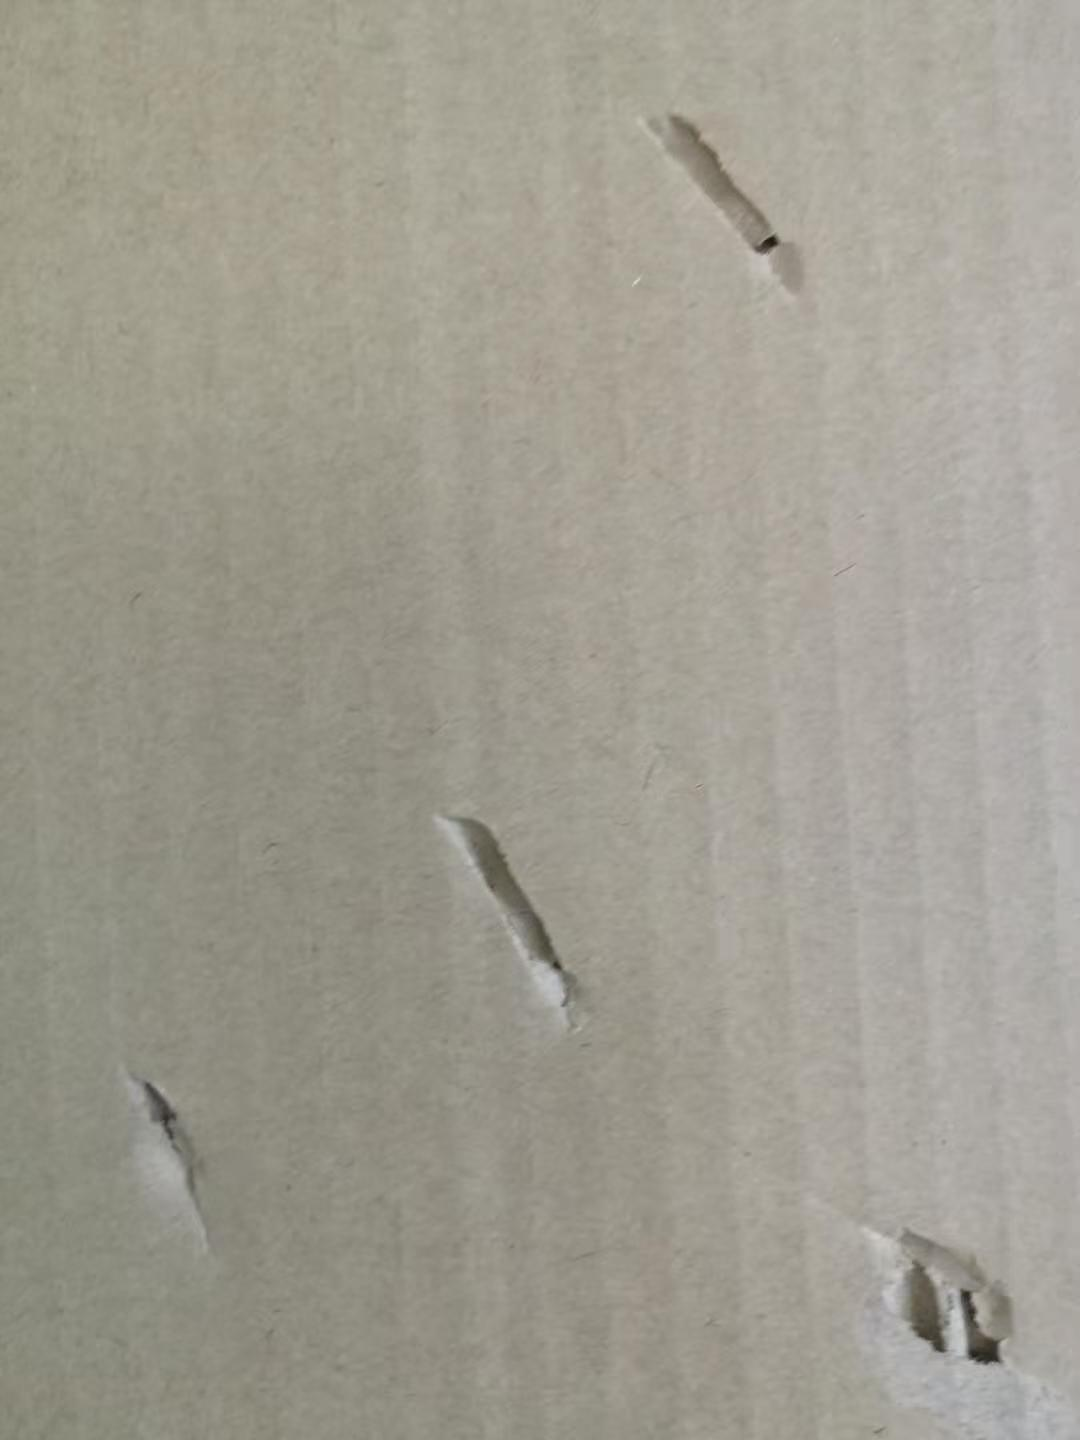defect: (400, 759, 625, 1068), (820, 1172, 1080, 1430), (597, 68, 839, 336), (82, 1020, 248, 1273)
